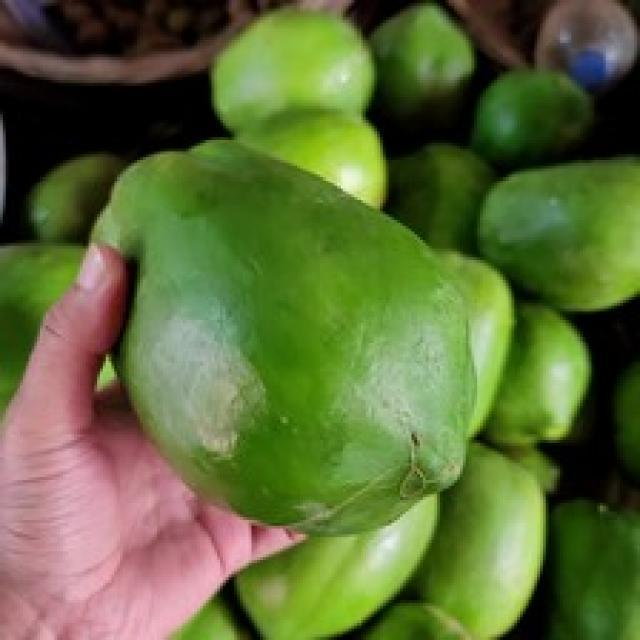Pepaya unrippen: (80, 138, 497, 555)
